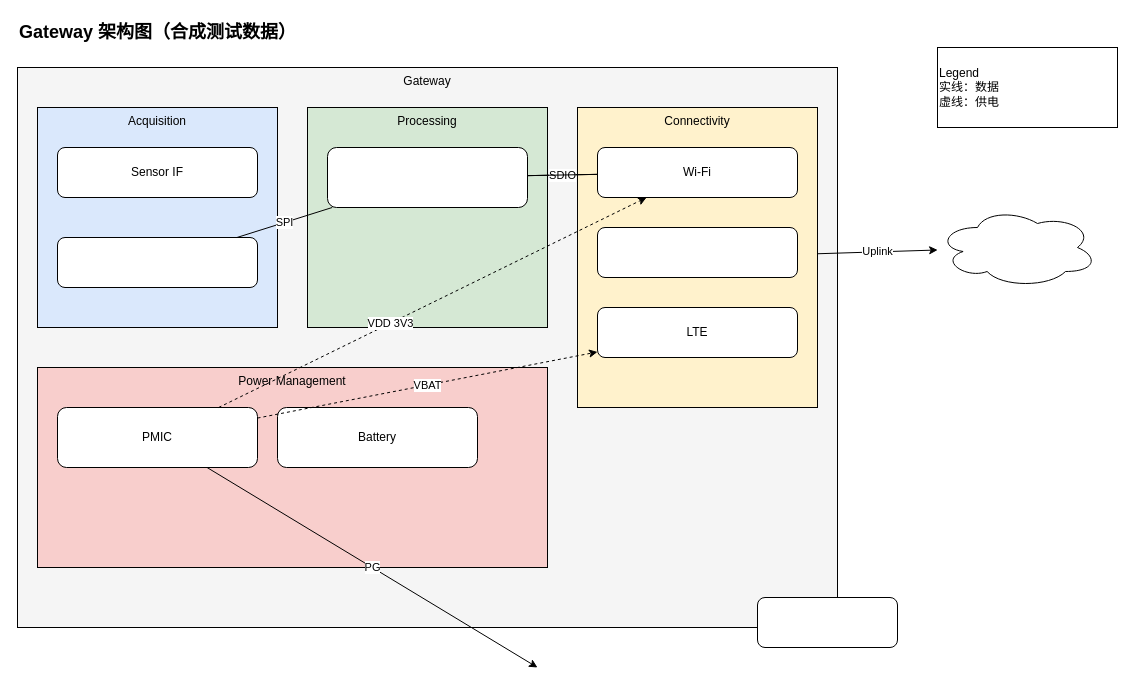
This 1135x693 diagram has some shape labels left out. The centre of each missing label's shape, as x and y in pixels:
"ADC" belongs at (157,262).
"Debug Connector" belongs at (827,622).
"External Network" belongs at (1017,247).
"Main MCU" belongs at (427,177).
"WLAN Module" belongs at (697,252).
